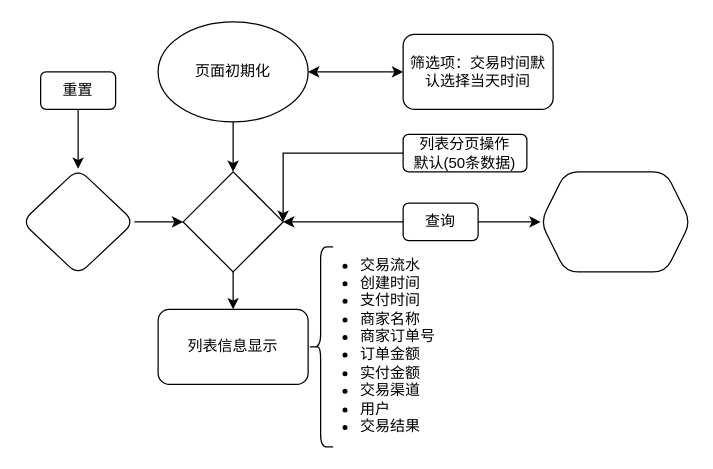
Some shapes in this 713 by 469 pixel diagram are drawn without their labels. Each missing label, with the centre of its shape:
"商家名称模糊检索，列表选择确定商家。" belongs at [615,221].
"数据处理" belongs at [232,221].
"清空检索条件" belongs at [77,221].
